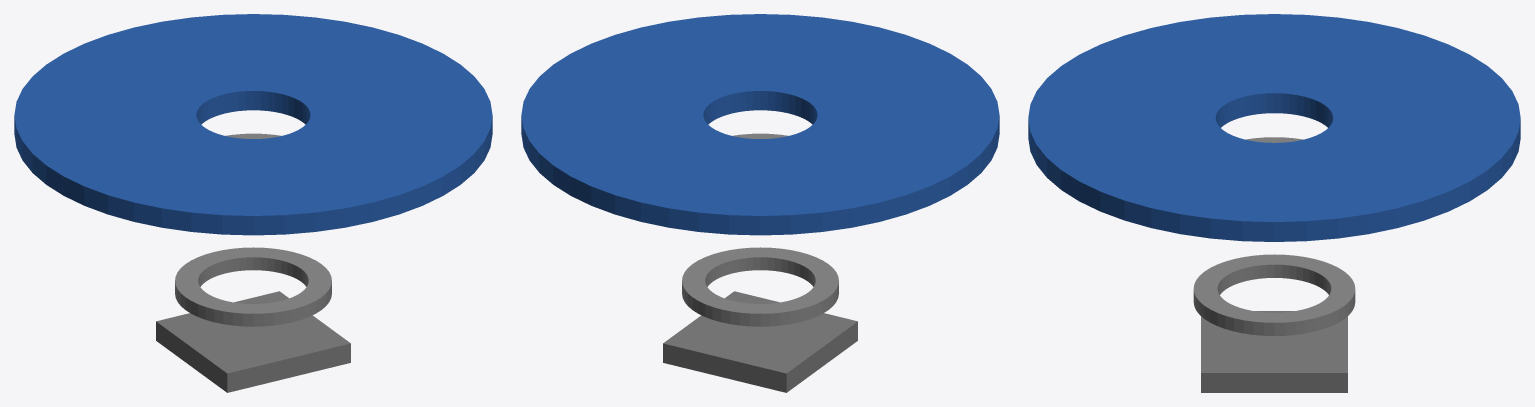
The model's file is waterbath_01.glb.
The picture shows the model from 3 angles, left to right: view 1: azimuth 30°, elevation 25°; view 2: azimuth 150°, elevation 25°; view 3: azimuth 270°, elevation 25°; orthographic projection. The views are drawn at different scales.
Parts seen in each view (by area): view 1: World_S16Bath_vis_blue_port_0, World_S16Bath_vis_stand_seat, World_S16Bath_vis_stand_guide_0; view 2: World_S16Bath_vis_blue_port_0, World_S16Bath_vis_stand_seat, World_S16Bath_vis_stand_guide_0; view 3: World_S16Bath_vis_blue_port_0, World_S16Bath_vis_stand_seat, World_S16Bath_vis_stand_guide_0.
Part boxes in pixels (left/top/right/bottom): World_S16Bath_vis_blue_port_0: left=14, top=14, right=492, bottom=235; World_S16Bath_vis_stand_seat: left=156, top=291, right=350, bottom=392; World_S16Bath_vis_stand_guide_0: left=175, top=247, right=331, bottom=326; World_S16Bath_vis_blue_port_0: left=521, top=14, right=999, bottom=235; World_S16Bath_vis_stand_seat: left=663, top=291, right=857, bottom=392; World_S16Bath_vis_stand_guide_0: left=682, top=247, right=838, bottom=326; World_S16Bath_vis_blue_port_0: left=1028, top=14, right=1520, bottom=241; World_S16Bath_vis_stand_seat: left=1201, top=311, right=1347, bottom=392; World_S16Bath_vis_stand_guide_0: left=1193, top=254, right=1355, bottom=335.
Bounding box in the file's own units: 0.134 × 0.0732 × 0.134.
